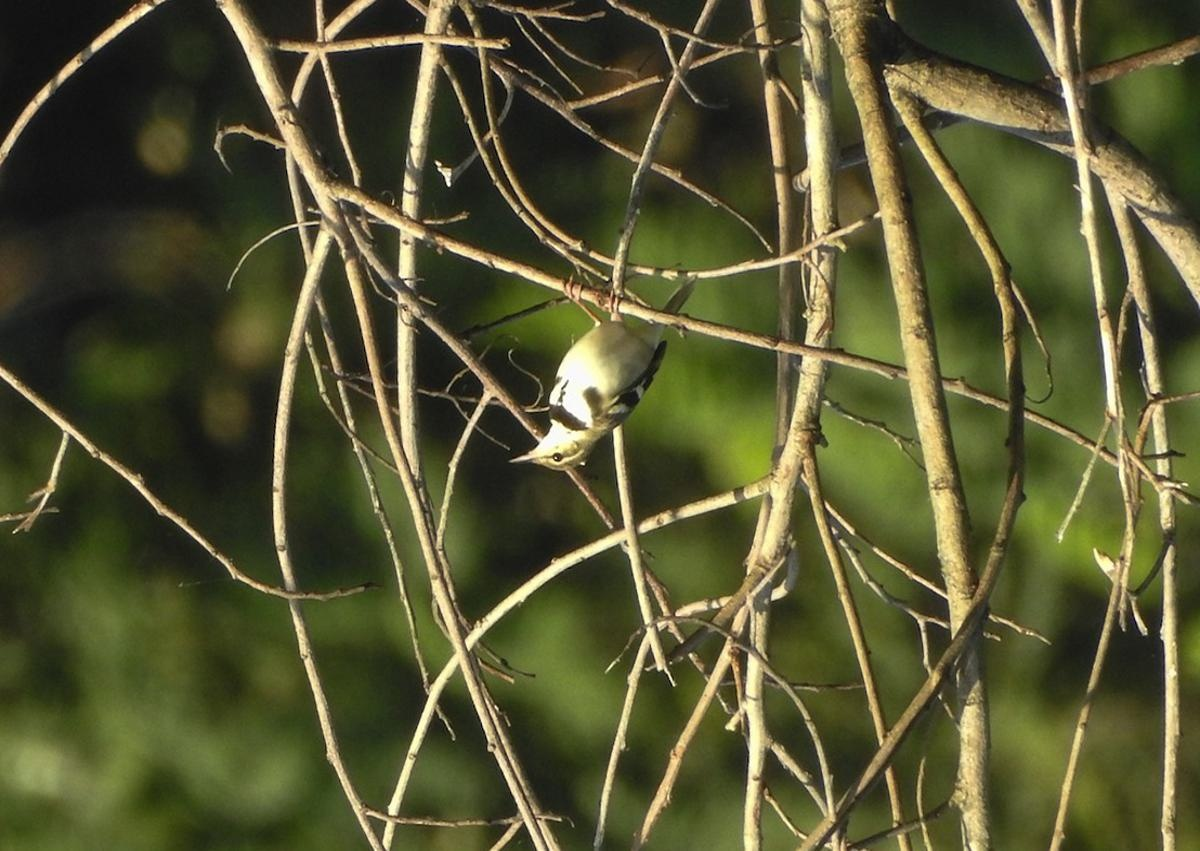wagtail: (514, 271, 691, 497)
